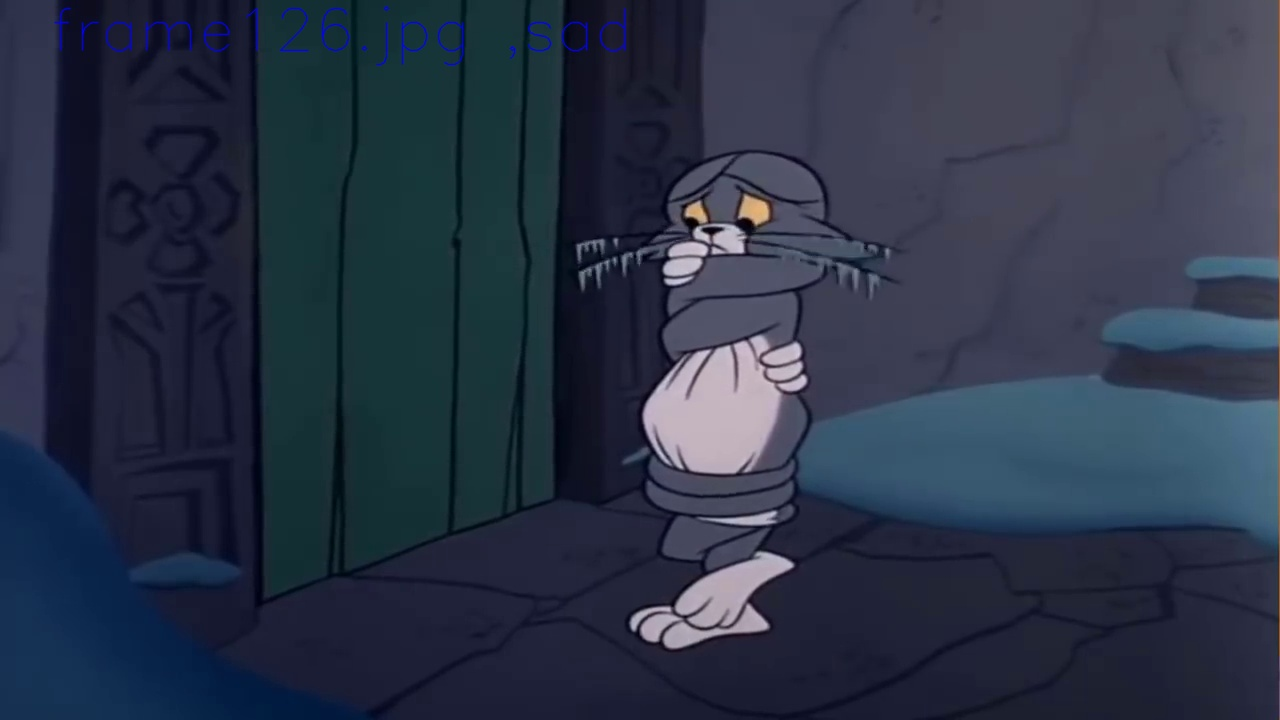sad: (678, 186, 773, 255)
